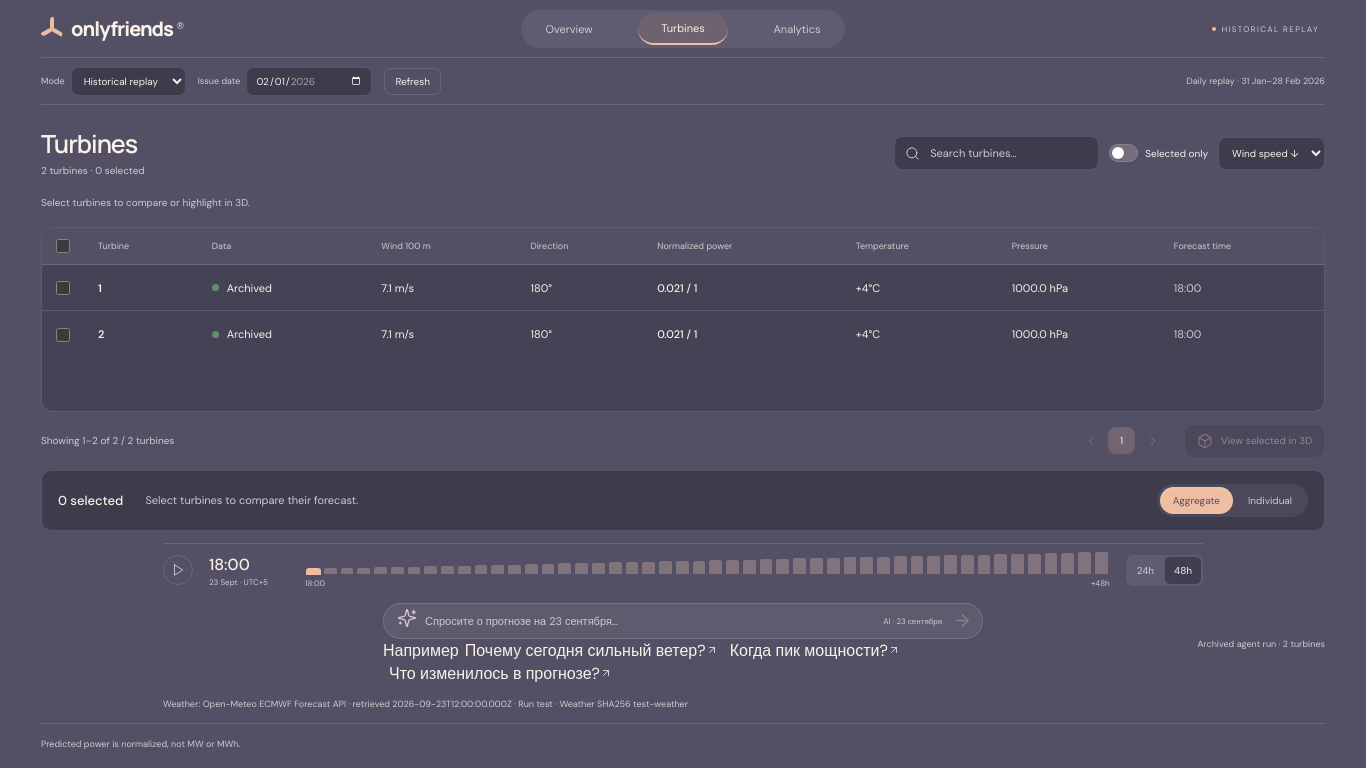
Test: Turbines page › bulk-selects visible turbines and shows mean and individual forecasts
Expected: the heading "Turbines" is shown, [41,129,145,159]
Step 1. Click the checkbox named "Select Turbine 1" → (63, 288), box [56,281,70,295]
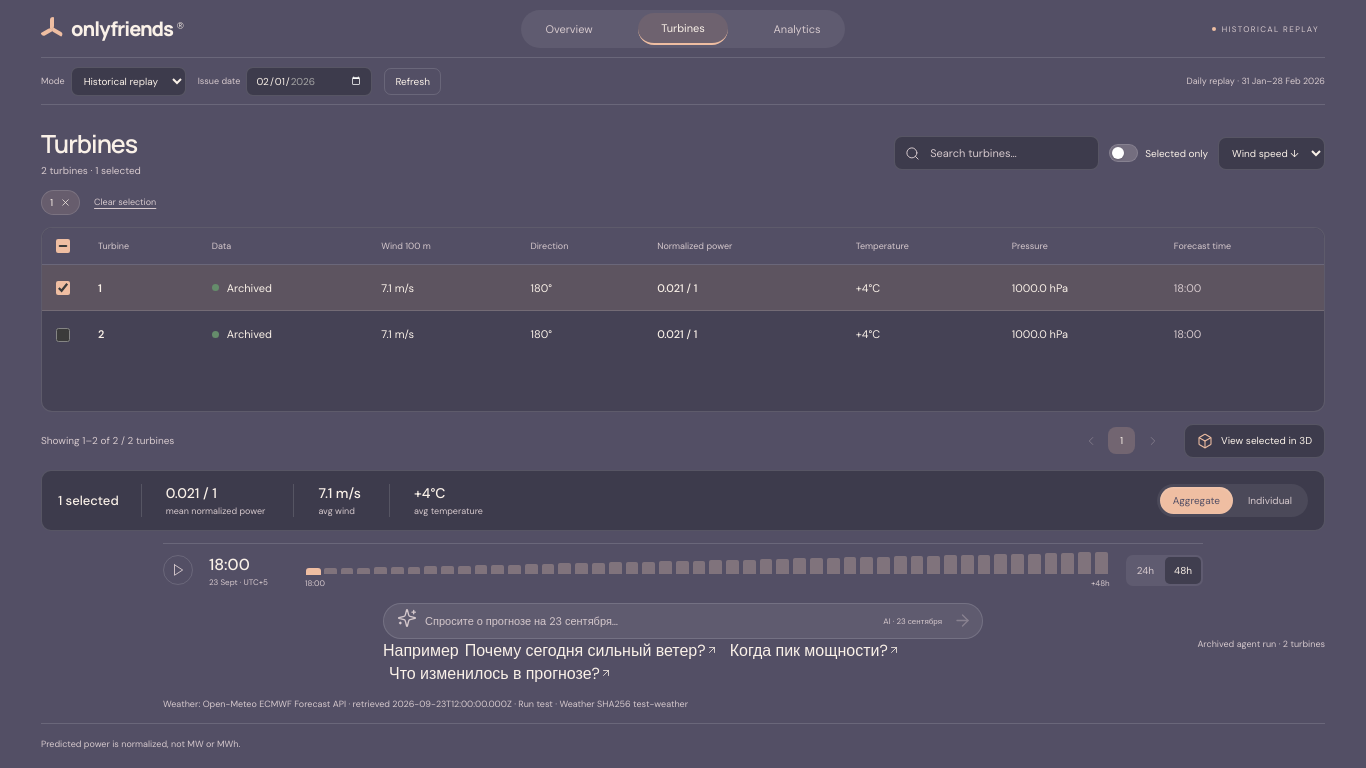
Step 2. Click the checkbox named "Select visible turbines" → (63, 246), box [56,239,70,253]
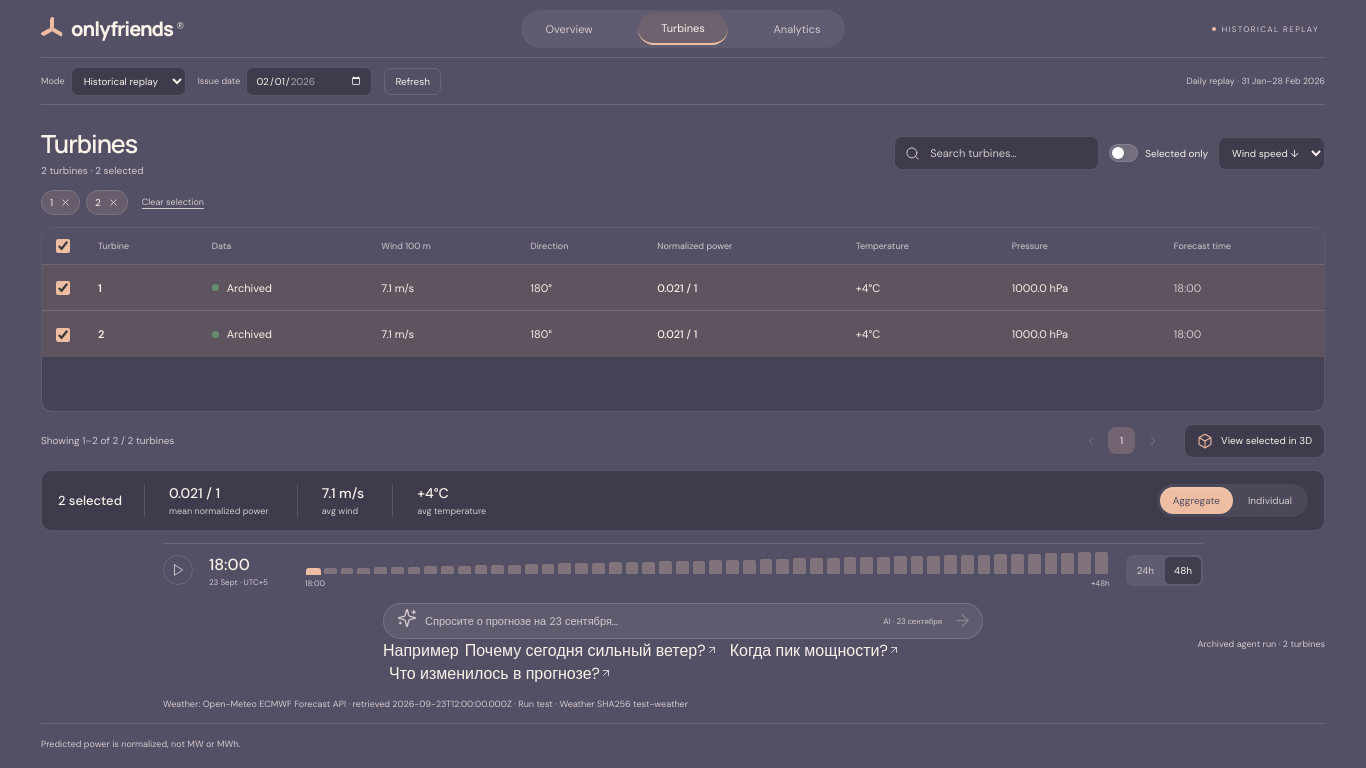
Result: the text "0.021 / 1" is shown at [169,484,220,502]
Result: the text "2 selected" is shown at [58,492,122,509]
Step 3. Click the button "Individual" → (1270, 500), box [1235,487,1305,514]
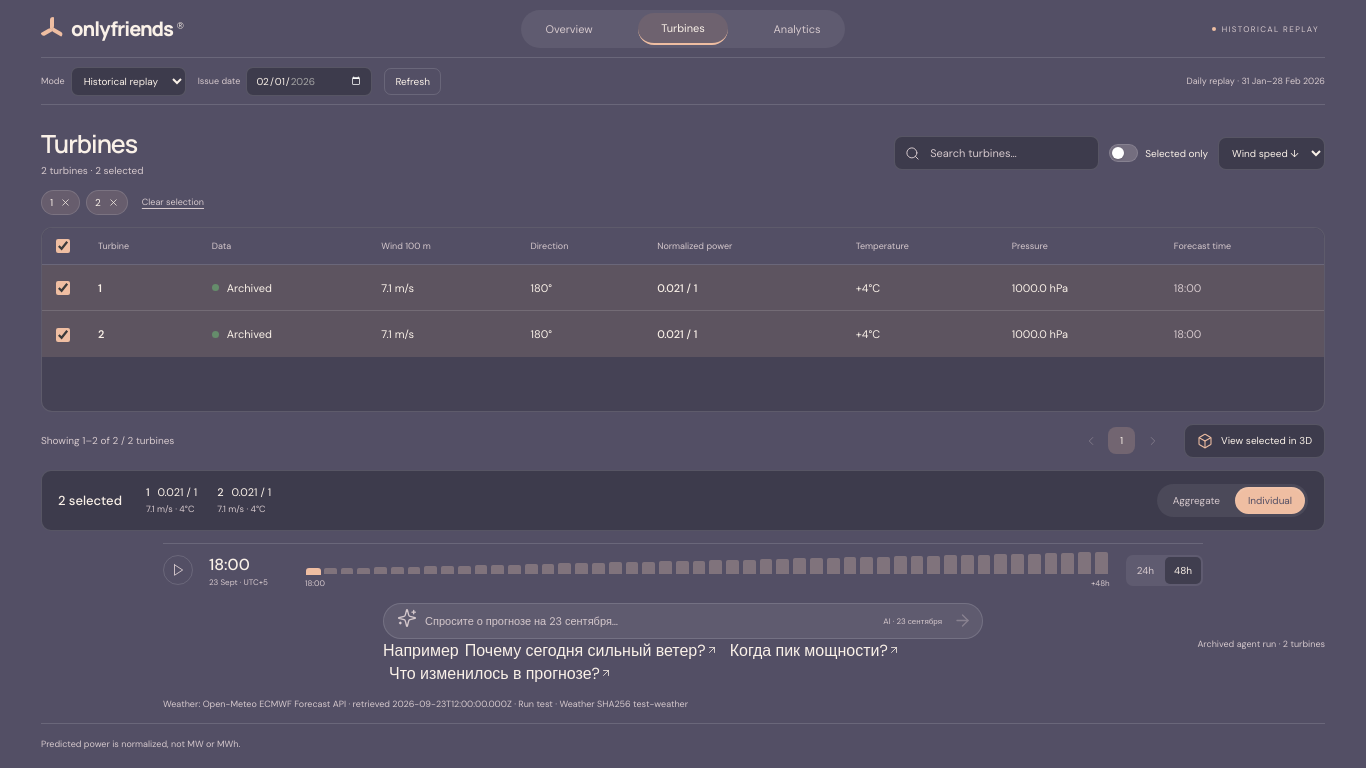
Result: the element named "Individual selected forecasts" shows "1" at [146,485,150,499]
Result: the element named "Individual selected forecasts" shows "2" at [217,485,224,499]
Step 4. Click the button "Clear selection" → (173, 202), box [134,191,212,213]
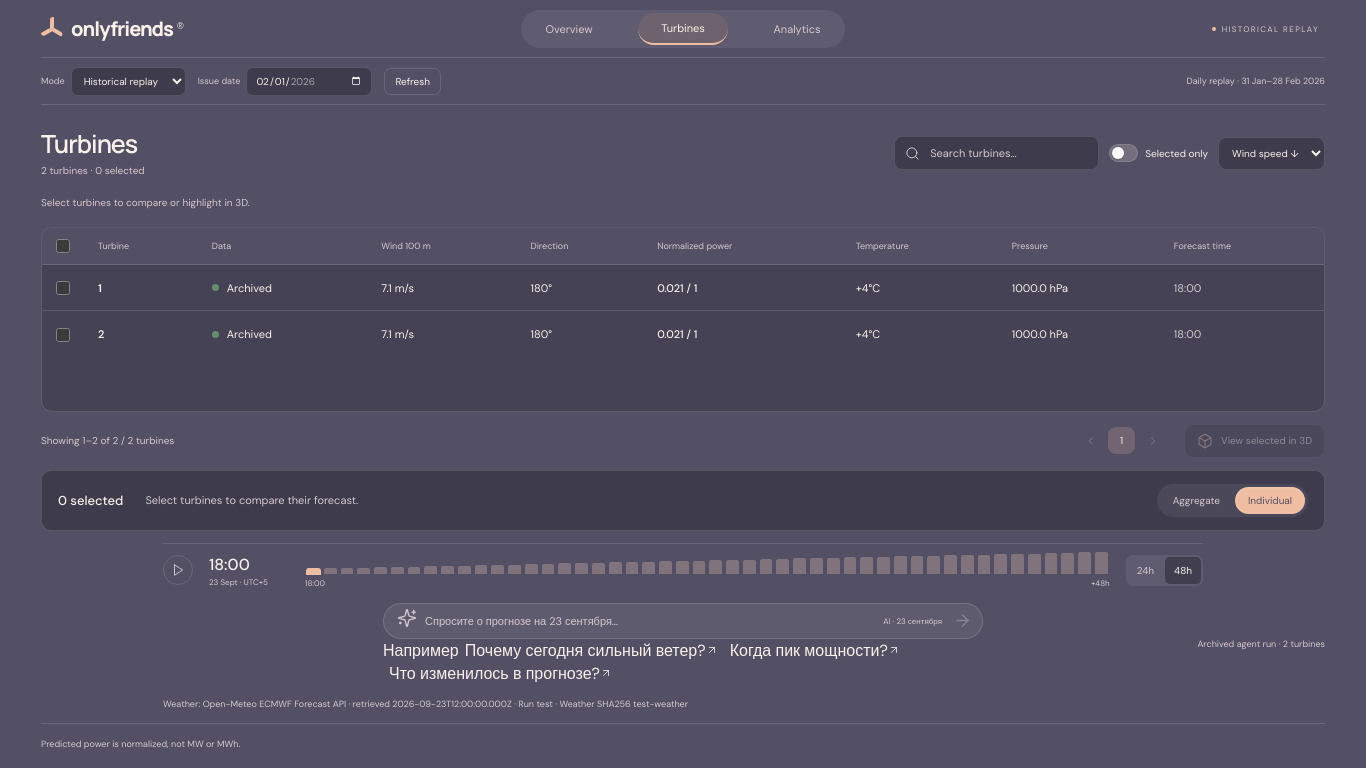
Result: the button "View selected in 3D" is disabled at [1184,424,1325,458]
